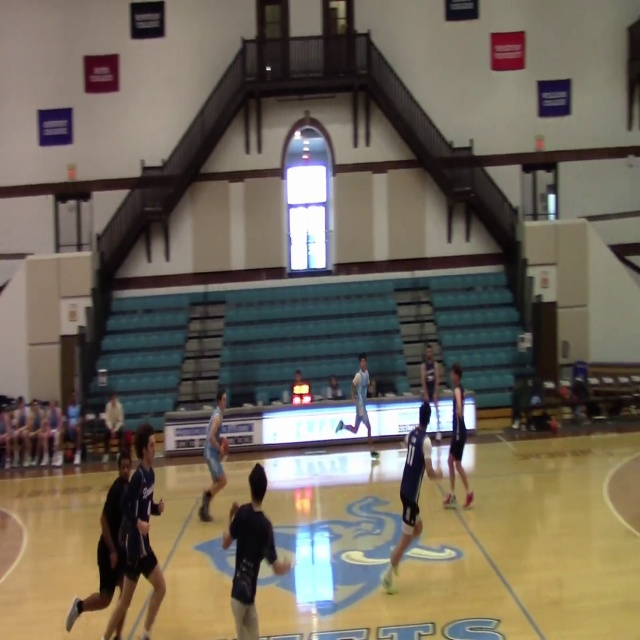Basketball: (272, 552, 293, 576), (218, 436, 229, 457)
